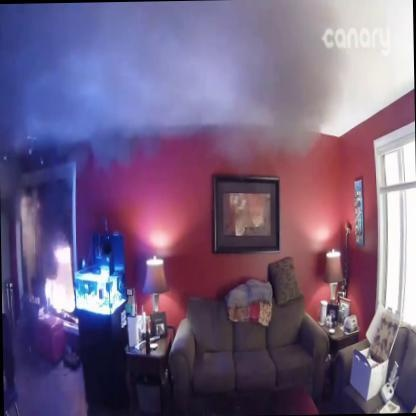smoke: (0, 5, 365, 169)
